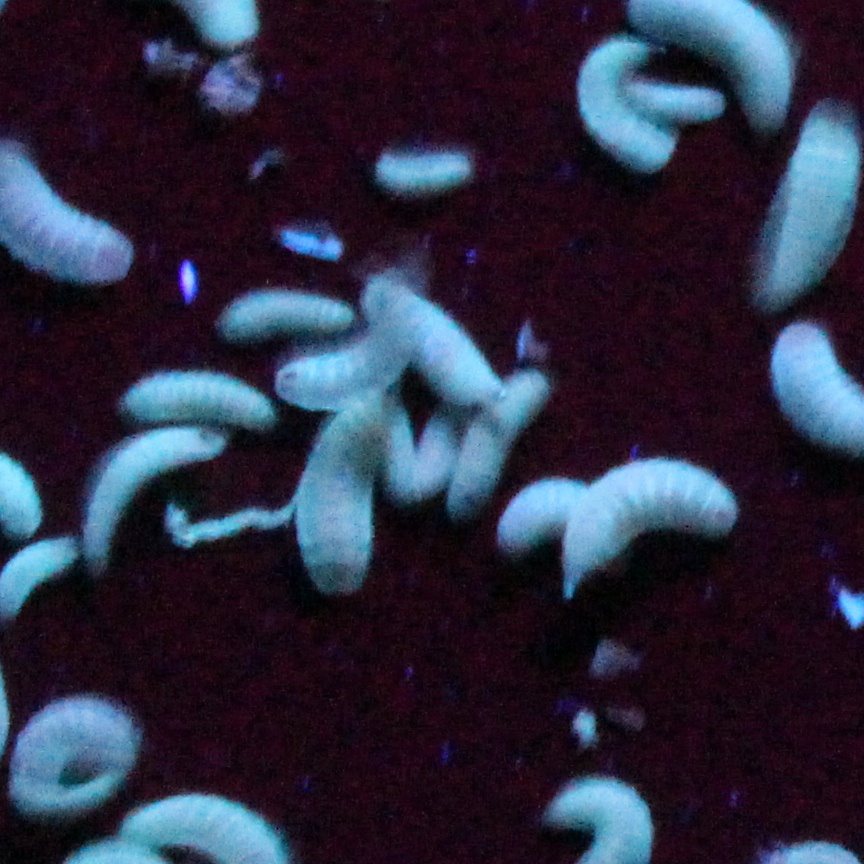larve: (556, 458, 738, 591), (86, 424, 225, 568), (294, 389, 386, 595), (442, 366, 550, 514), (363, 283, 500, 399), (575, 35, 661, 178), (119, 372, 277, 430), (217, 289, 354, 337), (615, 78, 731, 122), (381, 153, 473, 187)
